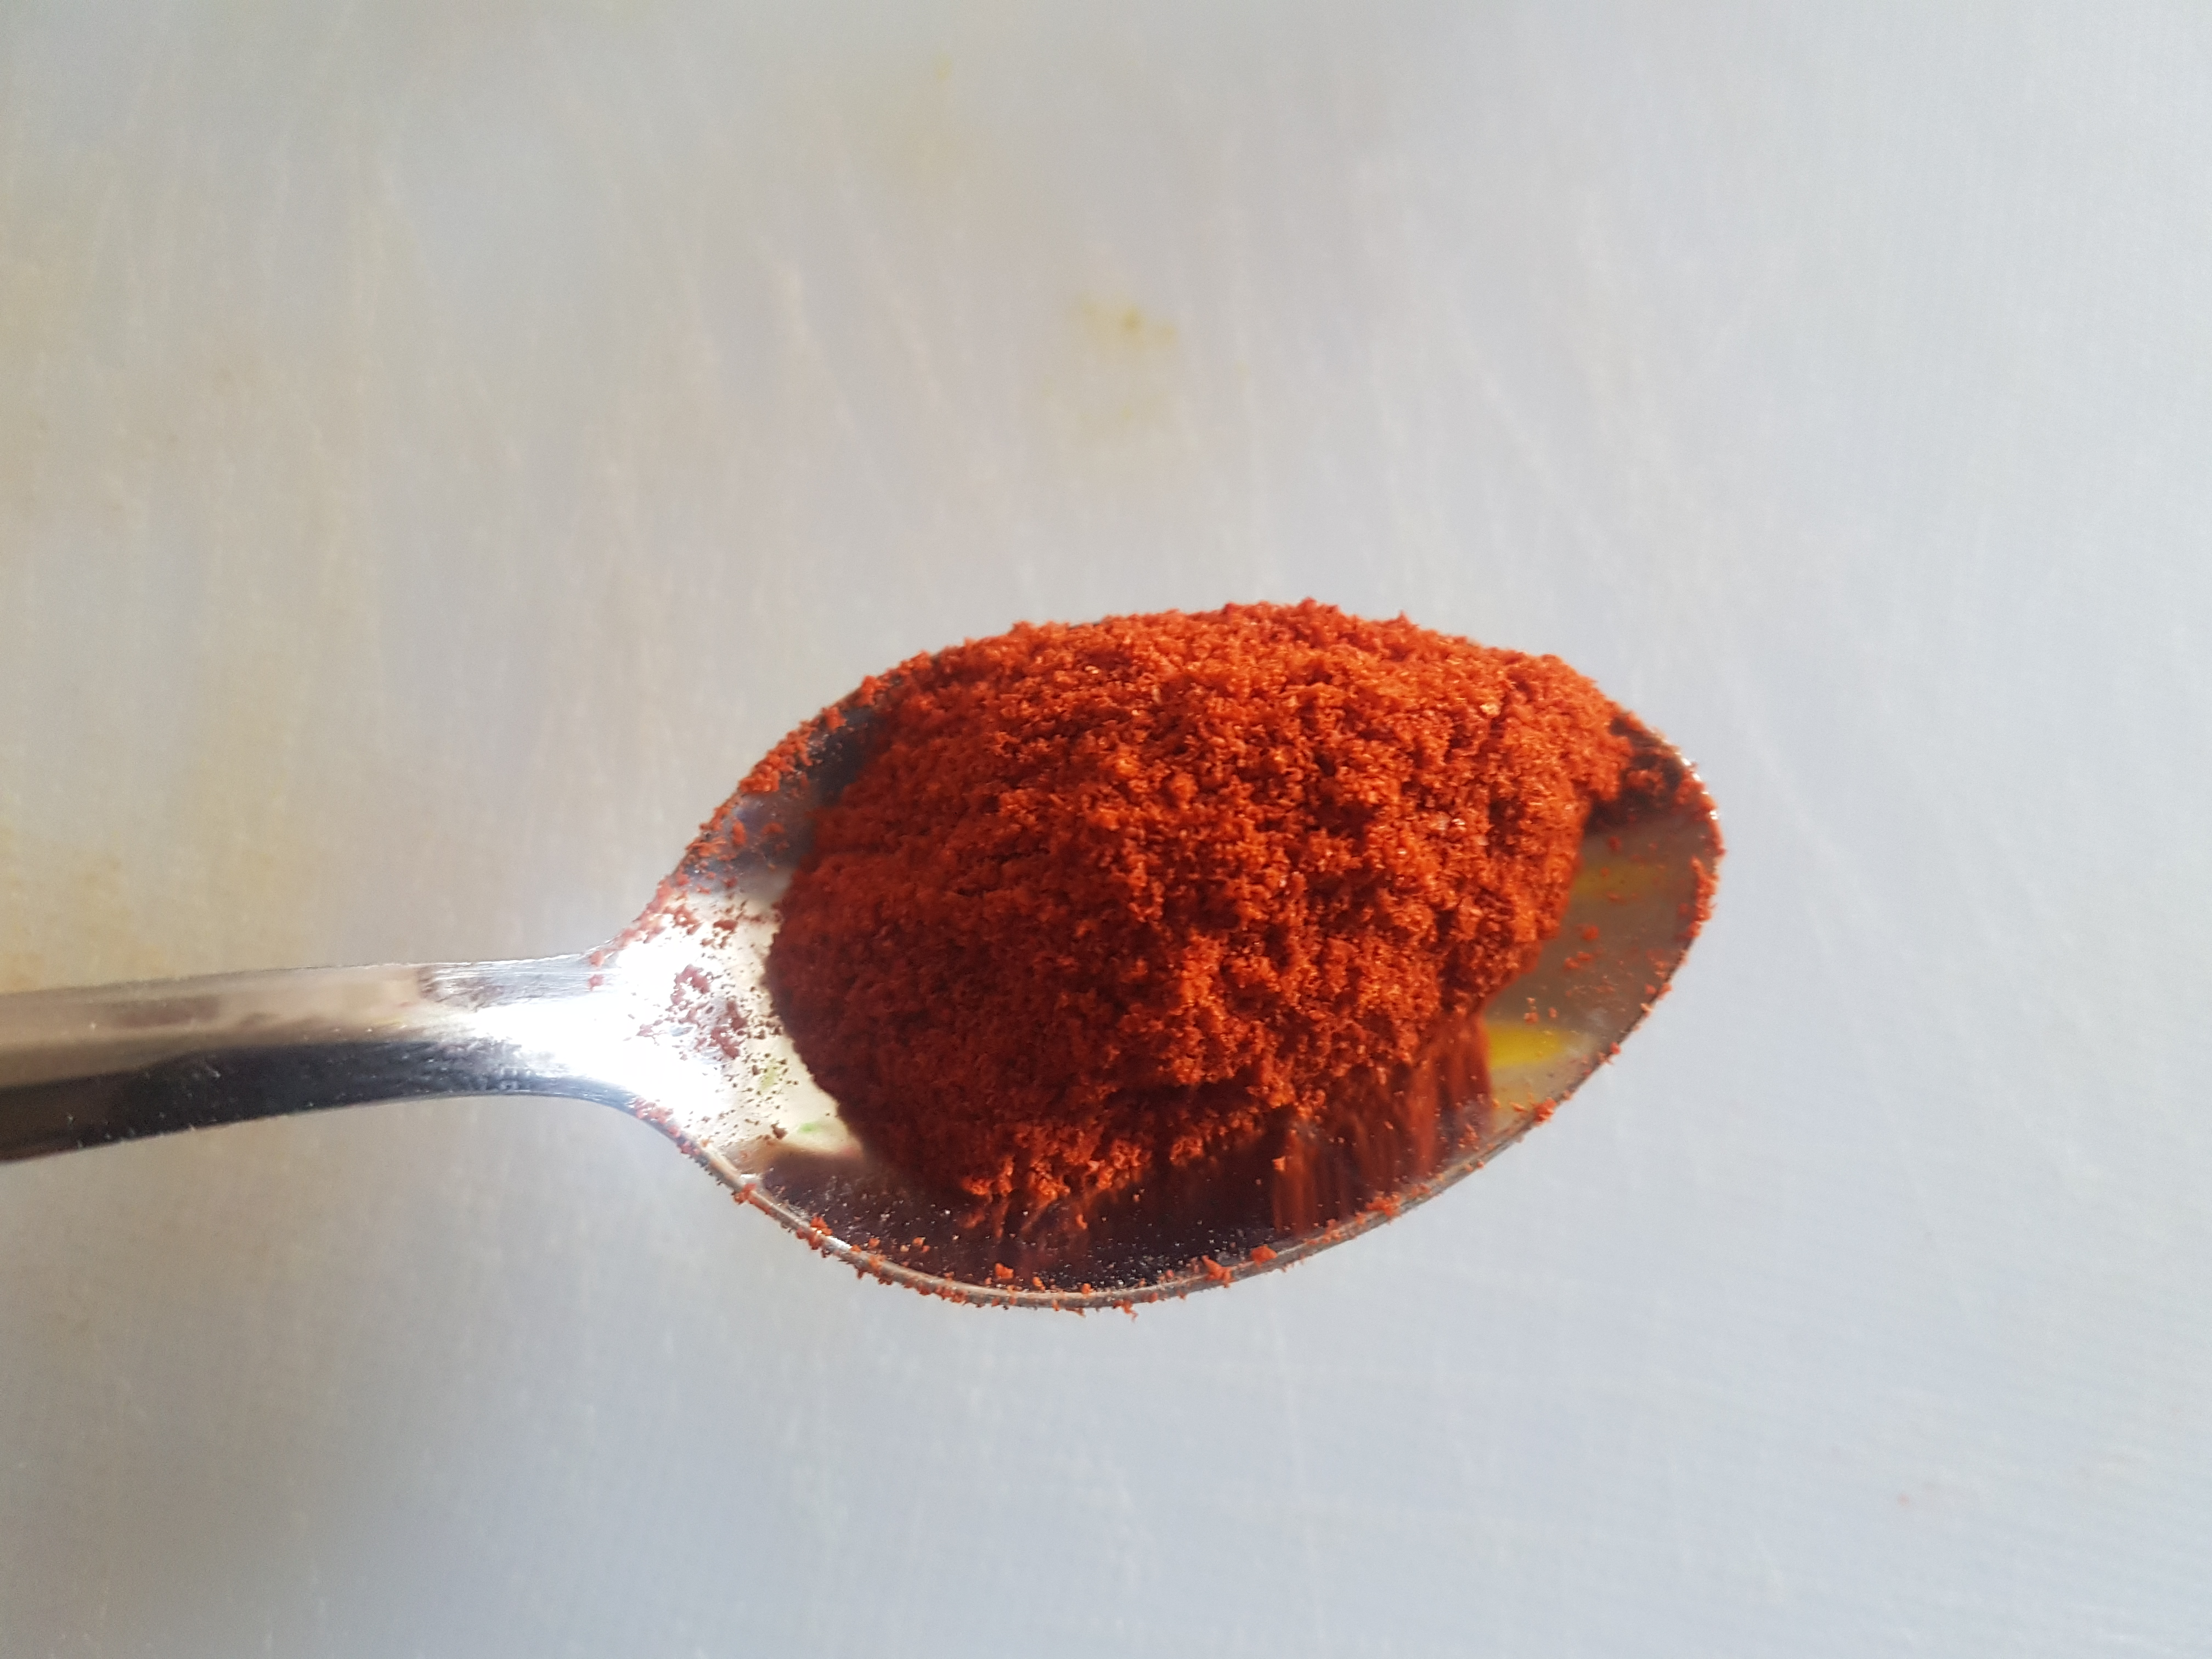Red chilli: (691, 596, 1759, 1298)
